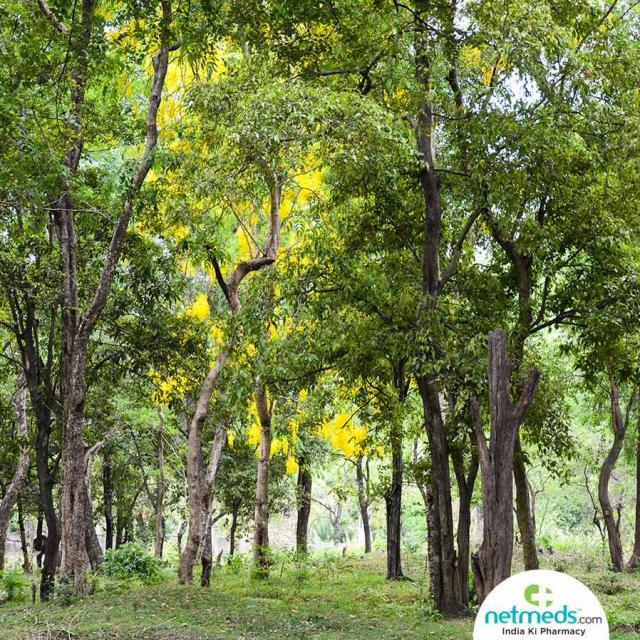Medicinal-Sandalwood: (362, 13, 640, 581), (160, 7, 397, 581), (0, 0, 185, 600)
